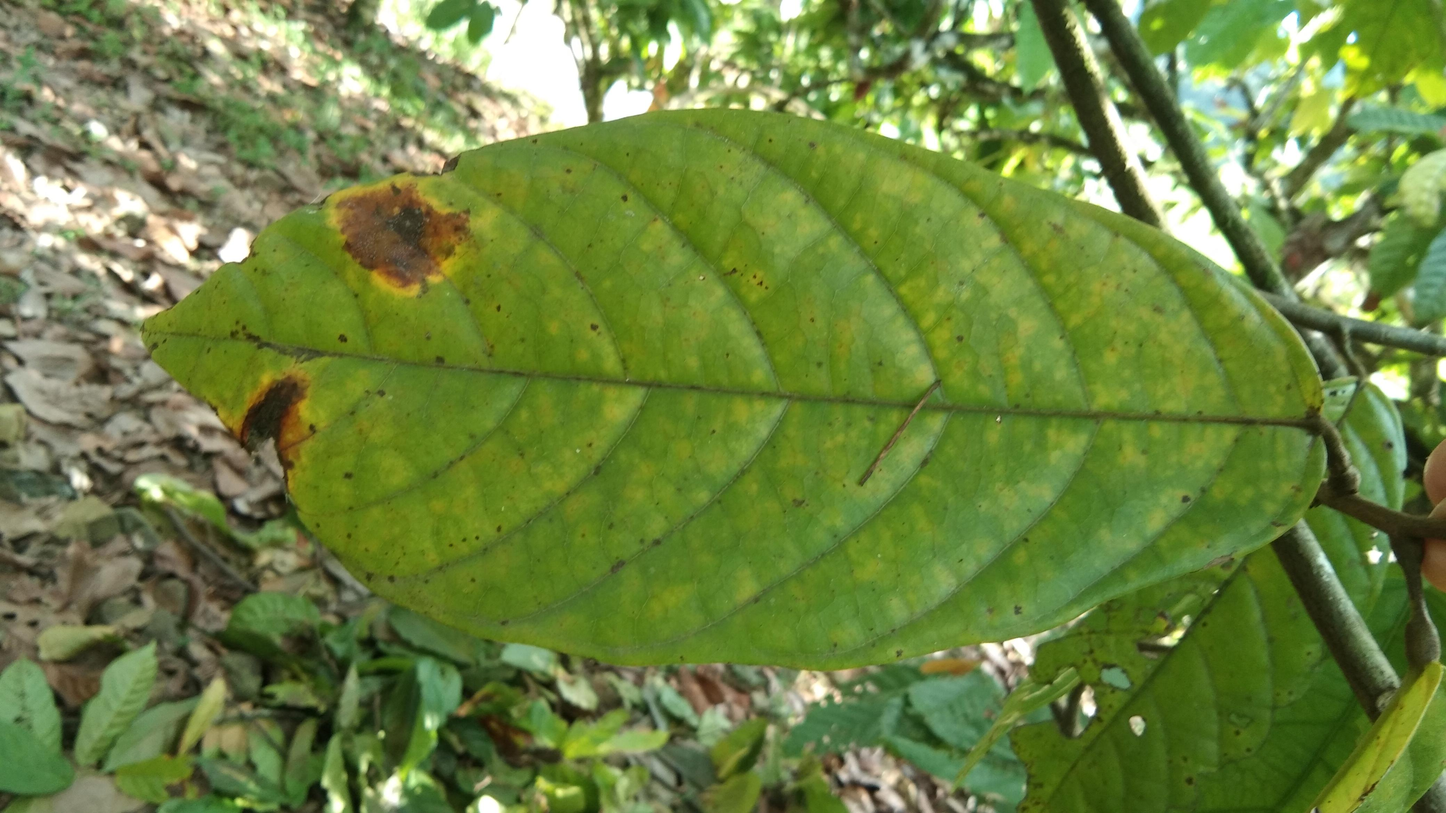deficiencia_potasio: (146, 109, 1324, 665)
